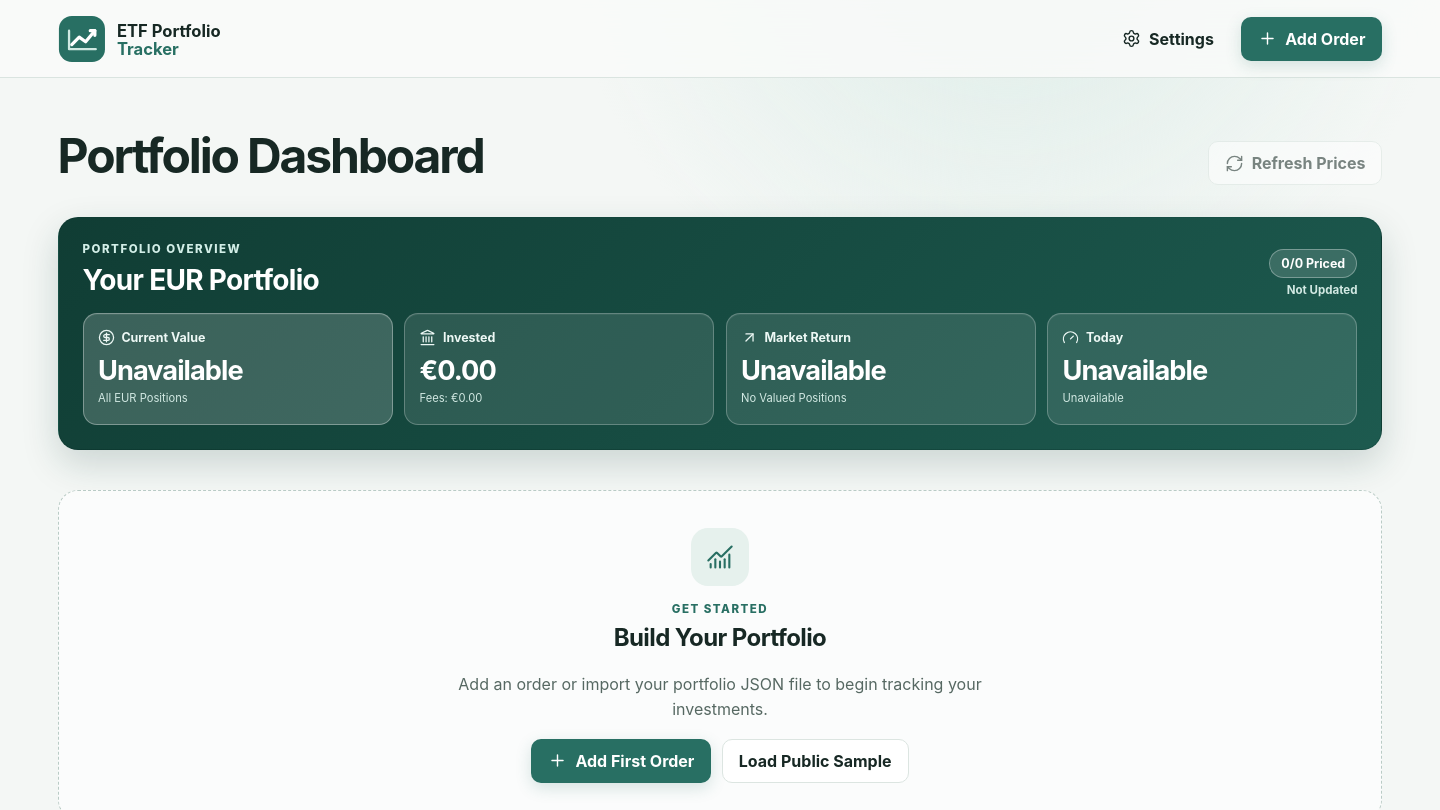
it: portfolio dashboard › shows an honest empty state and keeps the privacy indicator in settings
expect the text "Private - Local to This Browser" is not shown: met
expect the heading "Build Your Portfolio" is shown: met, box [614,623,826,652]
Click the button "Settings" at (1168, 38), box [1105,16,1231,60]
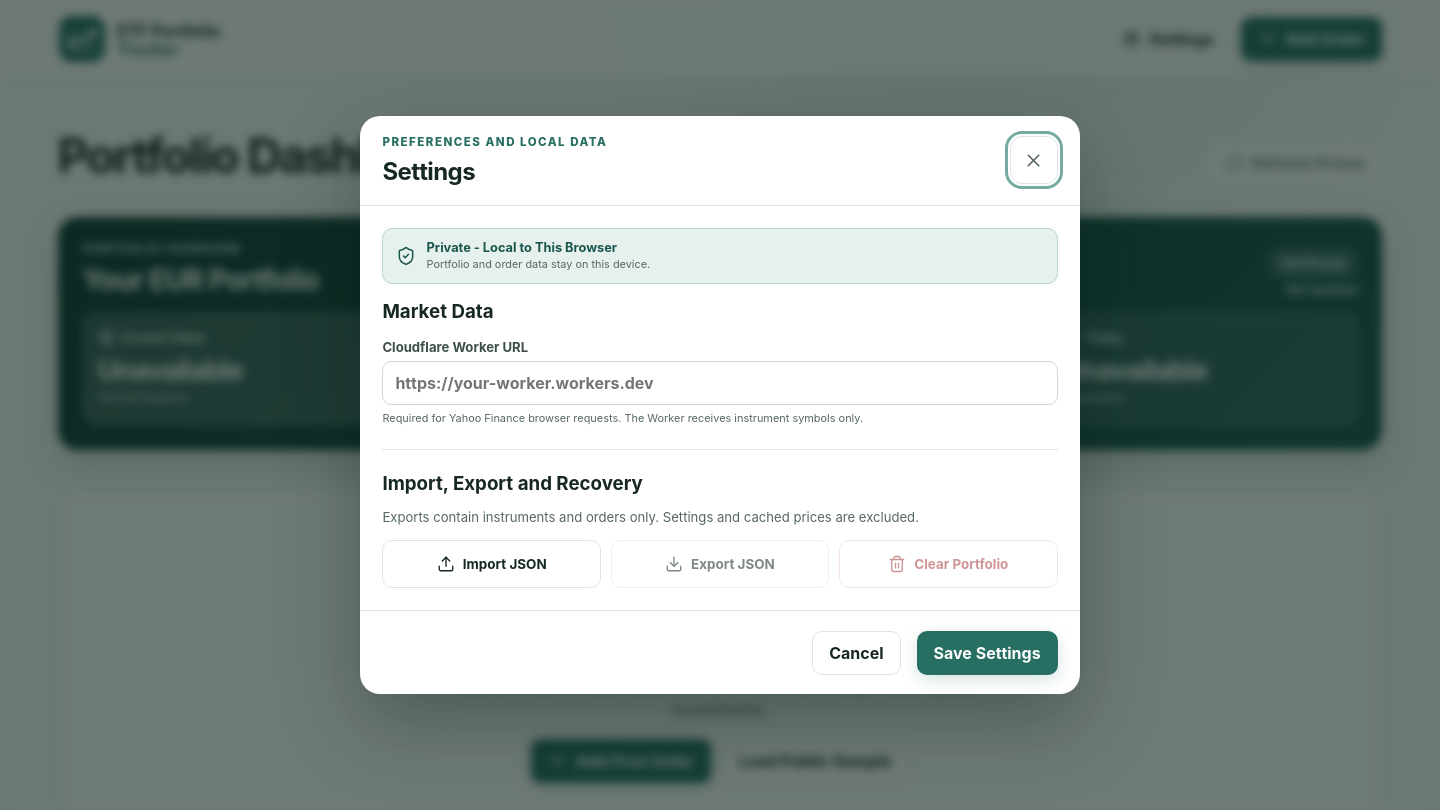
expect the text "Private - Local to This Browser" is shown: met, box [427,240,650,255]
